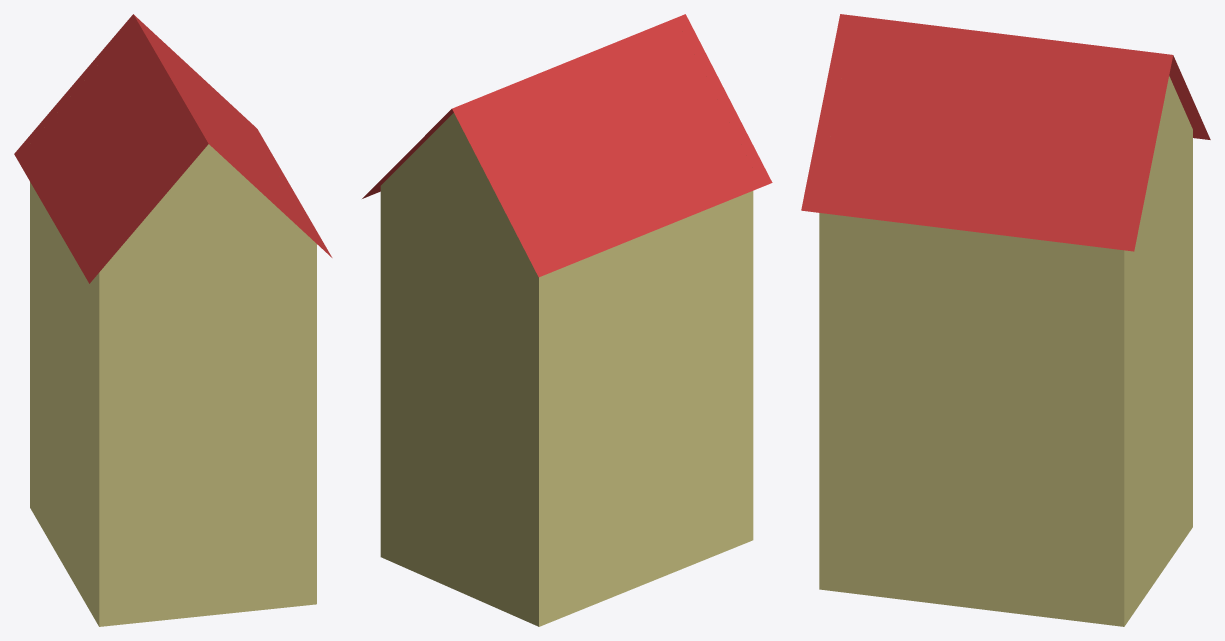
The picture shows the model from 3 angles, left to right: view 1: azimuth 30°, elevation 25°; view 2: azimuth 150°, elevation 25°; view 3: azimuth 270°, elevation 25°; orthographic projection. The views are drawn at different scales.
Size of the model in its own units: 6.2 by 7.05 by 9.93.
